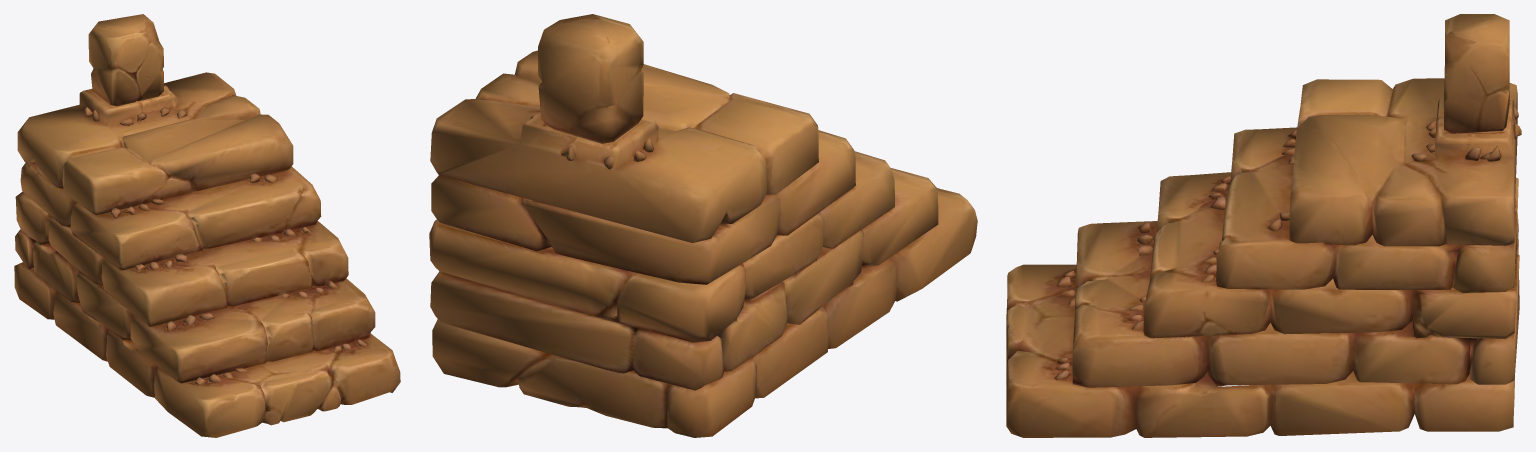
The picture shows the model from 3 angles, left to right: view 1: azimuth 30°, elevation 25°; view 2: azimuth 150°, elevation 25°; view 3: azimuth 270°, elevation 25°; orthographic projection. The views are drawn at different scales.
Visible parts, largest first — view 1: tripo_node_cc3662f8-a5b4-4d6f-b765-c9dd5060fc8a; view 2: tripo_node_cc3662f8-a5b4-4d6f-b765-c9dd5060fc8a; view 3: tripo_node_cc3662f8-a5b4-4d6f-b765-c9dd5060fc8a.
Part boxes in pixels (x1,y1,x2,y2): tripo_node_cc3662f8-a5b4-4d6f-b765-c9dd5060fc8a: [14, 14, 400, 437]; tripo_node_cc3662f8-a5b4-4d6f-b765-c9dd5060fc8a: [429, 14, 977, 437]; tripo_node_cc3662f8-a5b4-4d6f-b765-c9dd5060fc8a: [1006, 14, 1521, 437].
Size of the model in its own units: 0.5918 by 0.7402 by 0.998.
1 material, 1 textured.
